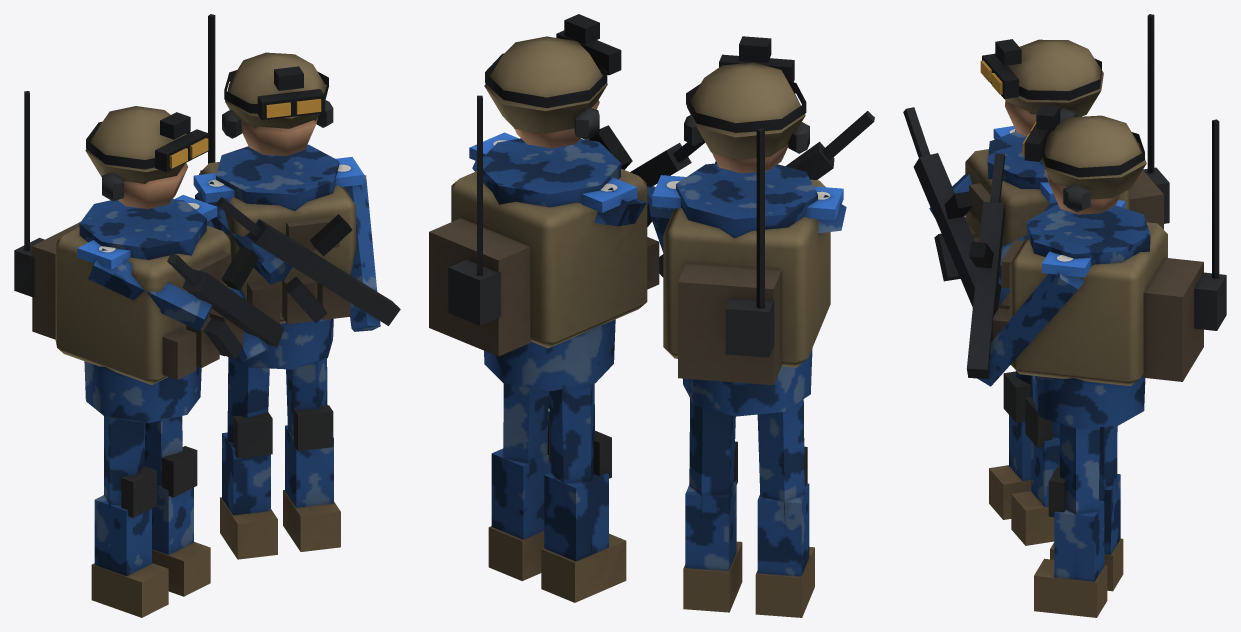
The model's file is sentry_dl7_blue.glb.
3 views of the same model, side by side, from view 1: azimuth 30°, elevation 25°; view 2: azimuth 150°, elevation 25°; view 3: azimuth 270°, elevation 25° (orthographic). The views are drawn at different scales.
Parts seen in each view (by area): view 1: sentry_dl7_blue; view 2: sentry_dl7_blue; view 3: sentry_dl7_blue.
Part boxes in pixels (x1,y1,x2,y2): sentry_dl7_blue: [14, 14, 400, 617]; sentry_dl7_blue: [429, 14, 874, 617]; sentry_dl7_blue: [903, 14, 1226, 617].
Bounding box in the file's own units: 0.2548 × 0.3857 × 0.2361.
Materials: 1 (1 with a texture image).
